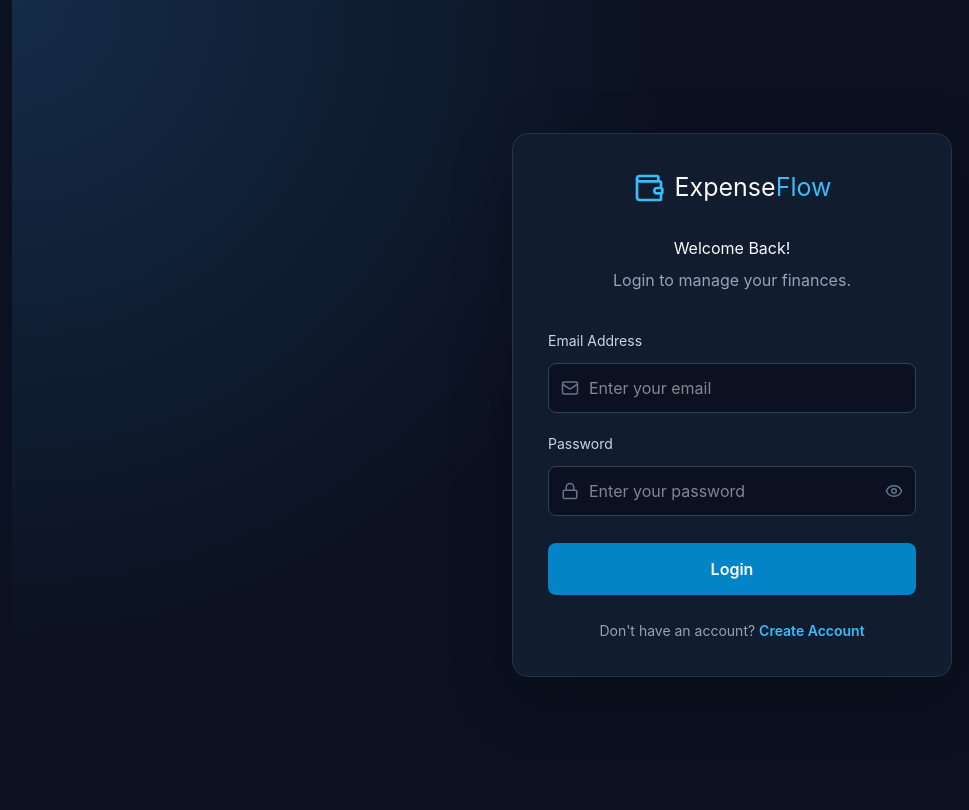
Login Component Tests › should login successfully and navigate to dashboard
In the field with placeholder "Enter your email": (746, 388) [589,364,903,412], type "test@example.com"
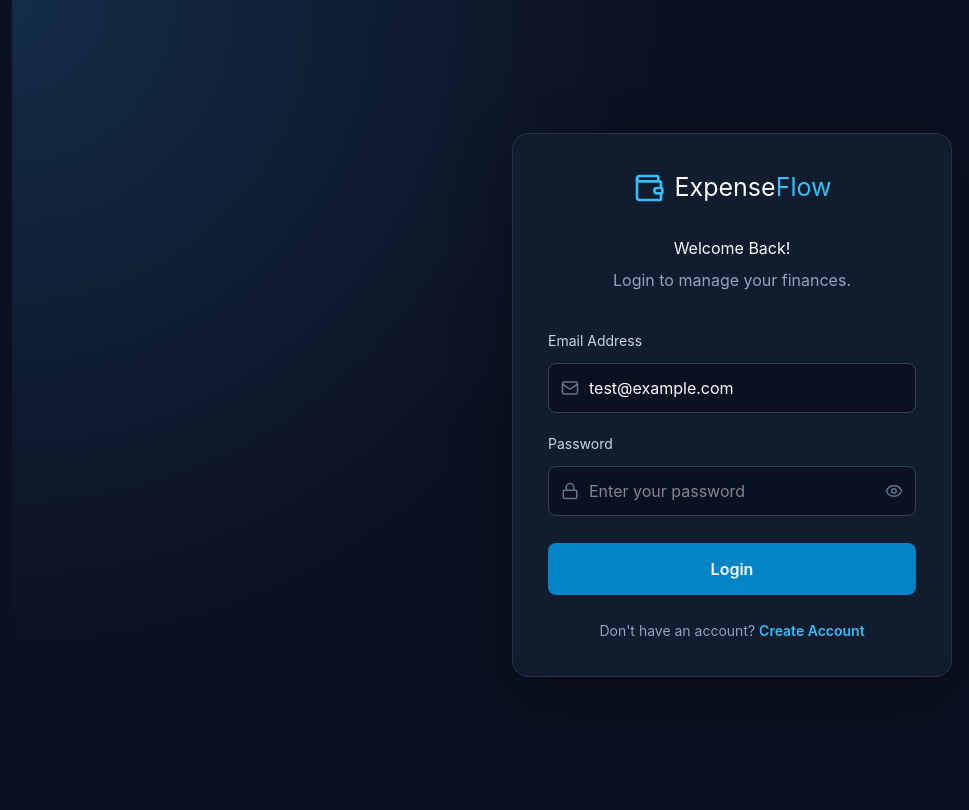
In the password field with placeholder "Enter your password": (732, 491) [589,467,875,515], type "Password@123"
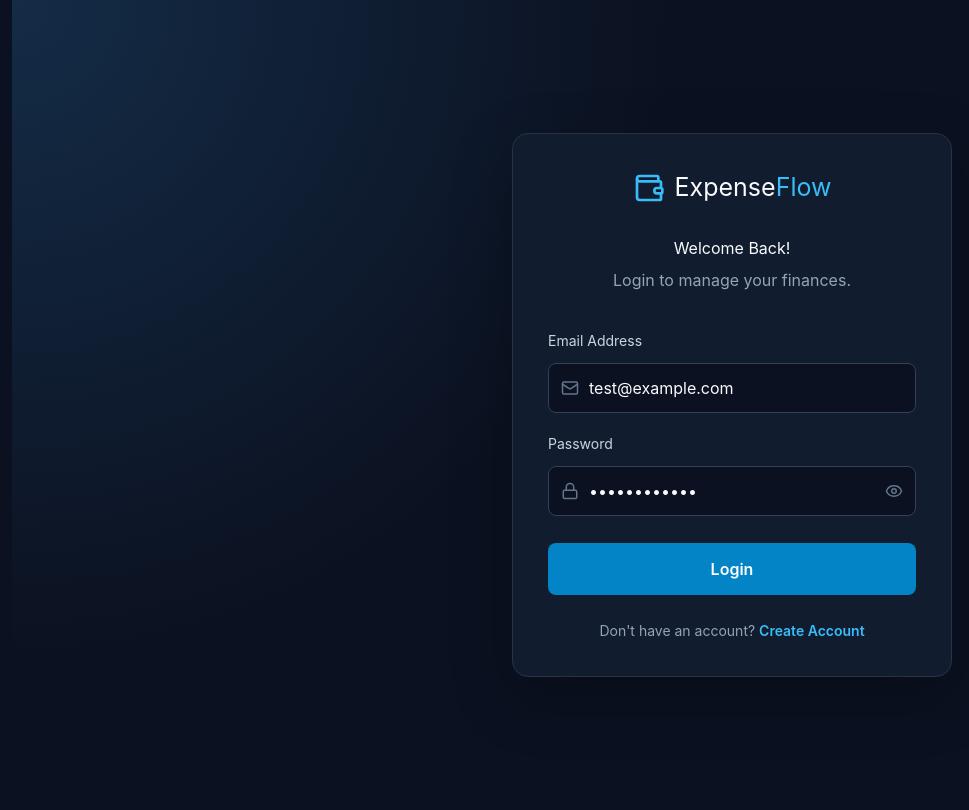
Click the button "Login": (732, 569) [548,543,916,595]
(page scrolled)
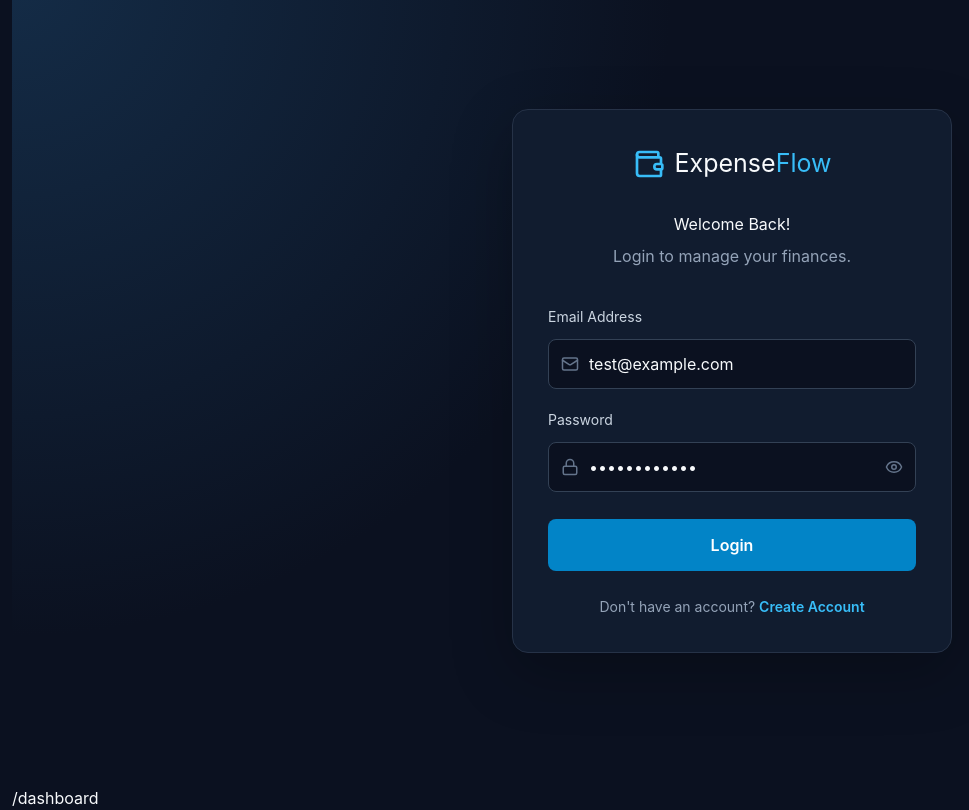
Expected: the text with test id "current-location" reads "/dashboard", [12,788,98,808]
